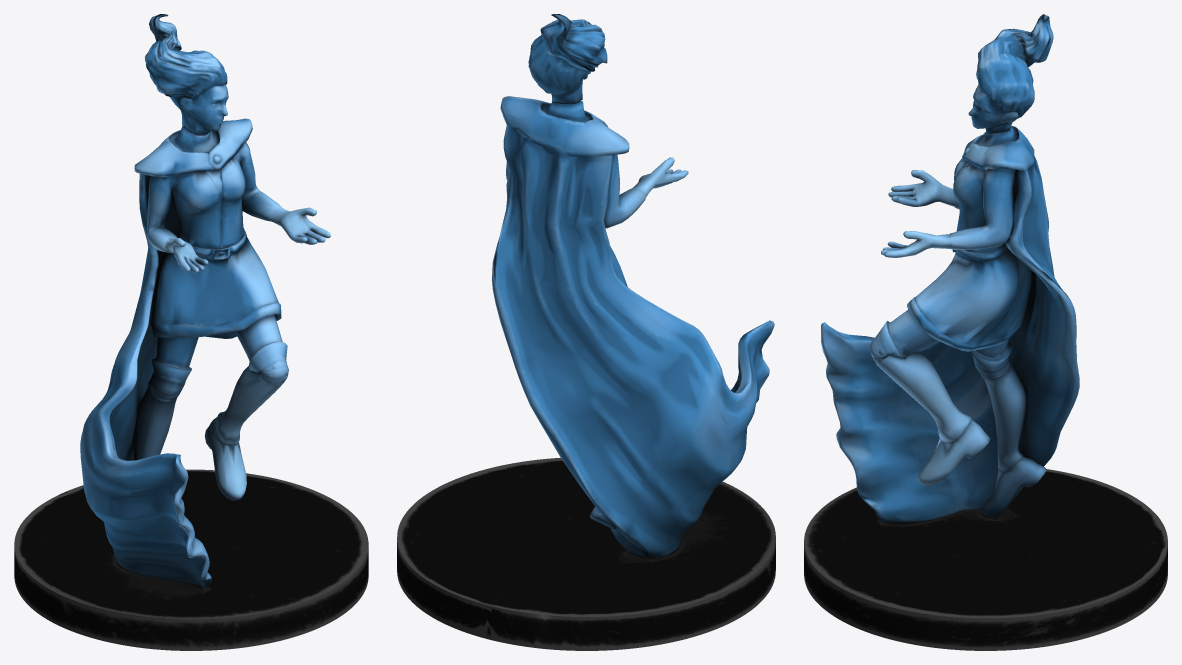
Rendered from MZ4250 - Ghost.glb.
The picture shows the model from 3 angles, left to right: view 1: azimuth 30°, elevation 25°; view 2: azimuth 150°, elevation 25°; view 3: azimuth 270°, elevation 25°; orthographic projection. The views are drawn at different scales.
Parts seen in each view (by area): view 1: Ghost_Female_Updated.001, Ghost_Female_Updated.003; view 2: Ghost_Female_Updated.001, Ghost_Female_Updated.003; view 3: Ghost_Female_Updated.001, Ghost_Female_Updated.003.
Boxes of the visible parts, <box> form: Ghost_Female_Updated.001: <box>80,14,330,588</box>; Ghost_Female_Updated.003: <box>14,469,368,650</box>; Ghost_Female_Updated.001: <box>492,14,774,558</box>; Ghost_Female_Updated.003: <box>397,458,775,650</box>; Ghost_Female_Updated.001: <box>821,14,1079,522</box>; Ghost_Female_Updated.003: <box>804,469,1167,650</box>.
Size of the model in its own units: 5.89 by 9.95 by 5.89.
1 material, 1 textured.
